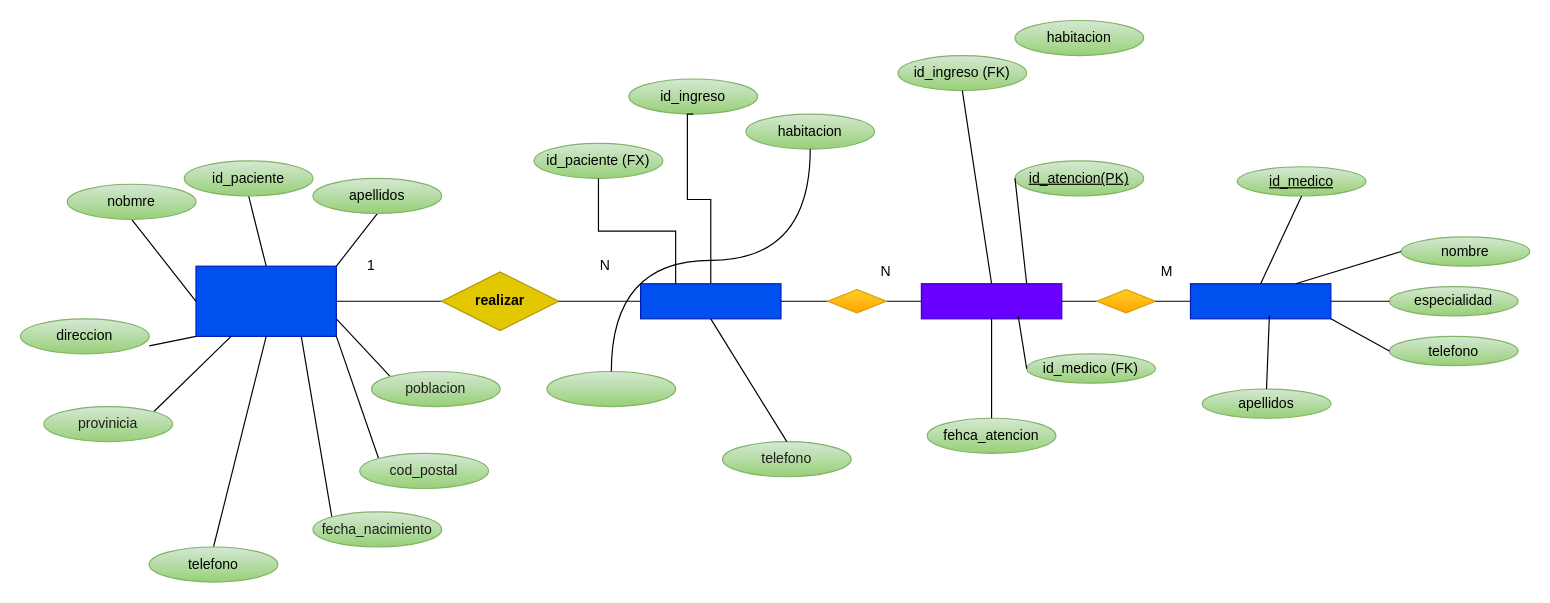
Some shapes in this 1550 by 603 pixel diagram are drawn without their labels. Here are the shapes that lost their labels. From the top down, the centre of each, then its label:
At pixel 265 300: "Paciente".
At pixel 710 301: "Ingreso".
At pixel 991 301: "atiende".
At pixel 1260 301: "medico".
At pixel 611 388: "cama".
